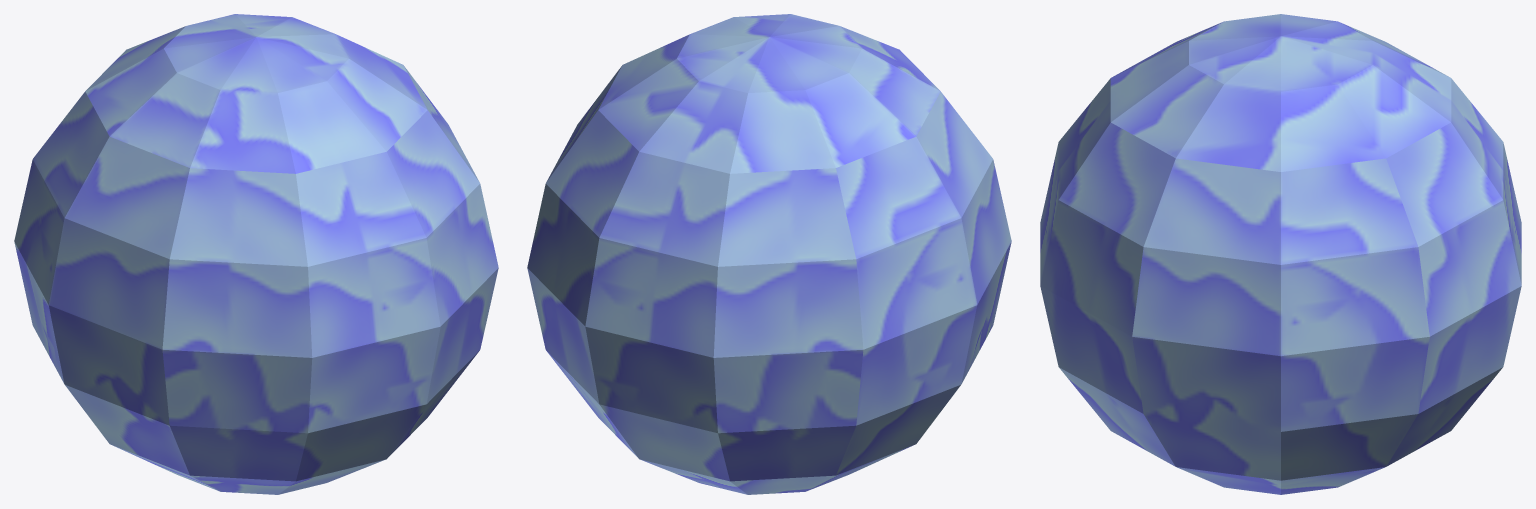
Rendered from ball.obj.
The picture shows the model from 3 angles, left to right: view 1: azimuth 30°, elevation 25°; view 2: azimuth 150°, elevation 25°; view 3: azimuth 270°, elevation 25°; orthographic projection.
Parts seen in each view (by area): view 1: Ball_Sphere; view 2: Ball_Sphere; view 3: Ball_Sphere.
Part boxes in pixels (<box>): Ball_Sphere: <box>14,14,498,494</box>; Ball_Sphere: <box>527,14,1011,494</box>; Ball_Sphere: <box>1040,14,1521,494</box>.
Size of the model in its own units: 1 by 1 by 1.
1 material, 1 textured.
